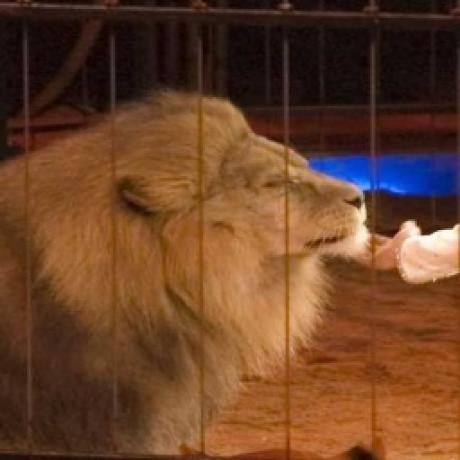Lion: (0, 84, 373, 460)
